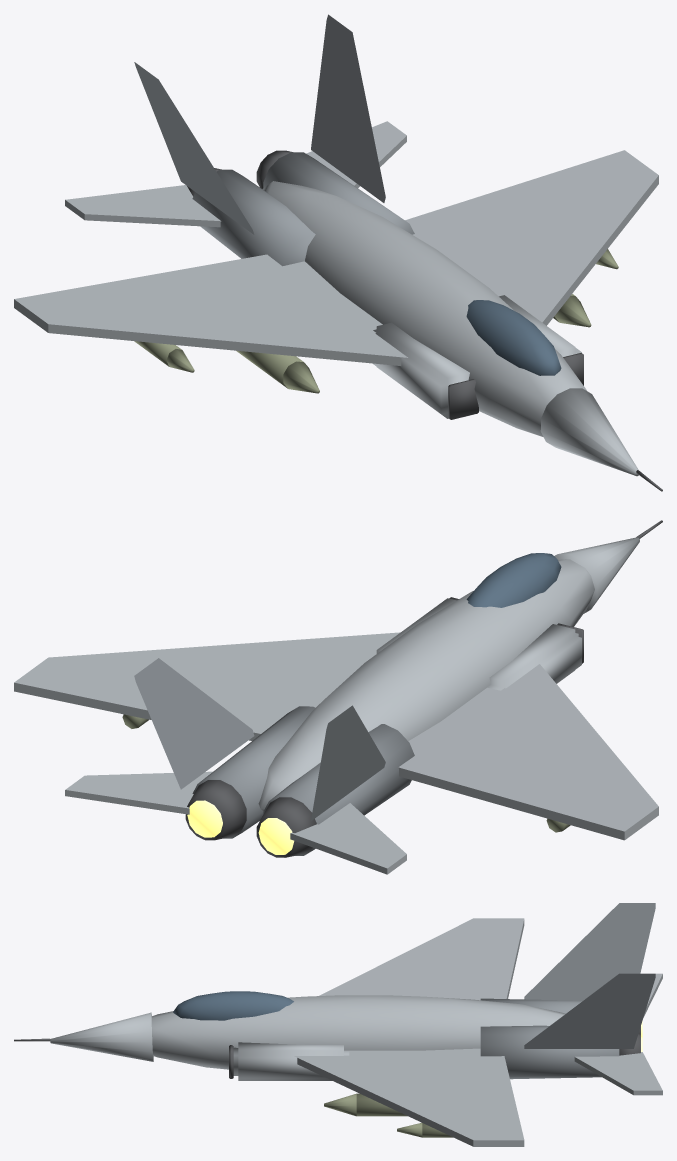
File: avion-ataque.glb
3 views of the same model, one above another, from view 1: azimuth 30°, elevation 25°; view 2: azimuth 150°, elevation 25°; view 3: azimuth 270°, elevation 25° (orthographic). The views are drawn at different scales.
Parts seen in each view (by area): view 1: avion; view 2: avion; view 3: avion.
Part boxes in pixels (left/top/right/bottom): avion: left=14, top=14, right=662, bottom=491; avion: left=14, top=520, right=662, bottom=874; avion: left=14, top=903, right=662, bottom=1146.
Bounding box in the file's own units: 7.2 × 2.03 × 8.9.
